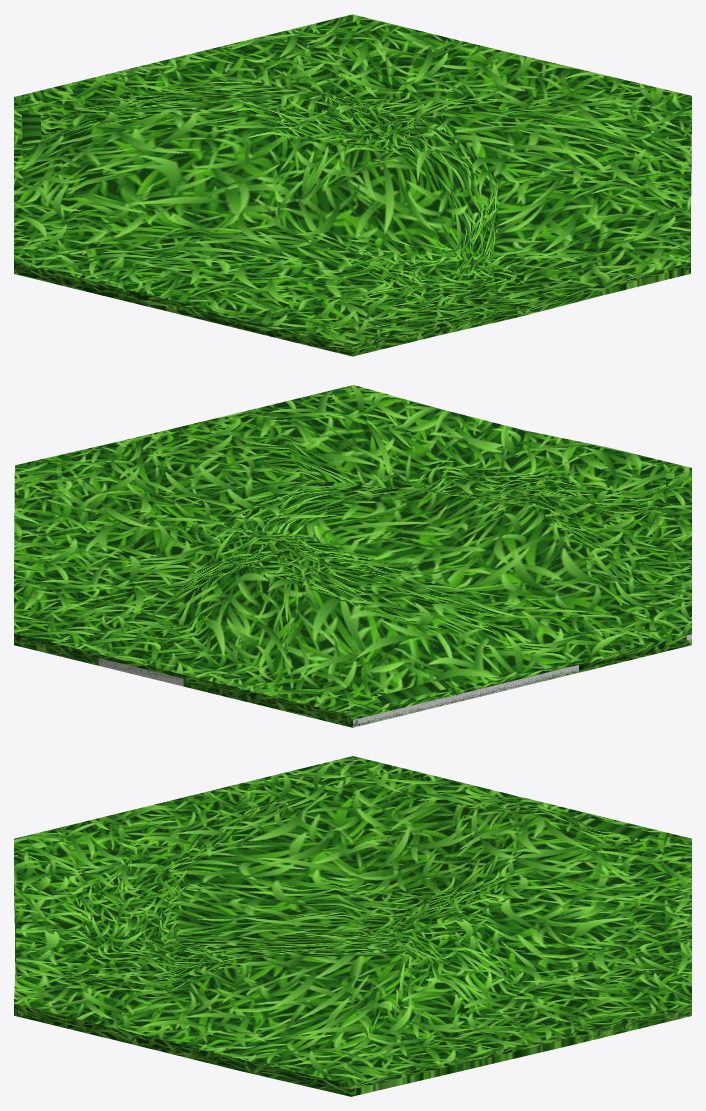
Rendered from grass-hex-hair.glb.
The picture shows the model from 3 angles, top to bottom: view 1: azimuth 30°, elevation 25°; view 2: azimuth 150°, elevation 25°; view 3: azimuth 270°, elevation 25°; orthographic projection.
Visible parts, largest first — view 1: optimized; view 2: optimized; view 3: optimized.
Part boxes in pixels (<box>): optimized: <box>14,14,691,356</box>; optimized: <box>14,385,691,727</box>; optimized: <box>14,756,691,1096</box>.
Size of the model in its own units: 4.5 by 0.3909 by 3.9.
Materials: 2 (1 with a texture image).
